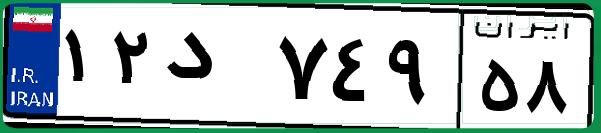1: (57, 26, 110, 100)
2: (110, 28, 158, 98)
4: (330, 28, 385, 110)
5: (475, 38, 525, 113)
7: (270, 28, 330, 110)
8: (525, 38, 570, 115)
9: (385, 28, 445, 110)
د: (158, 20, 270, 120)
